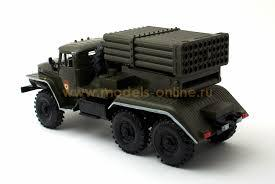MIL_SAM_TEL: (27, 24, 248, 165)
